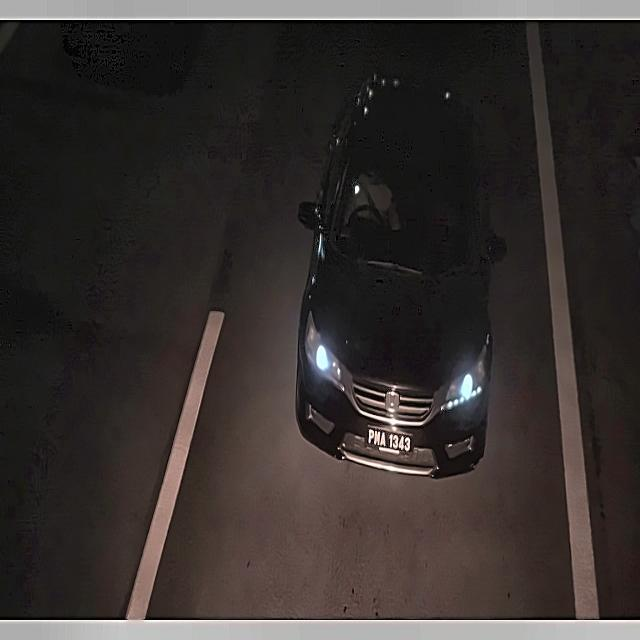car: (363, 422, 417, 459)
